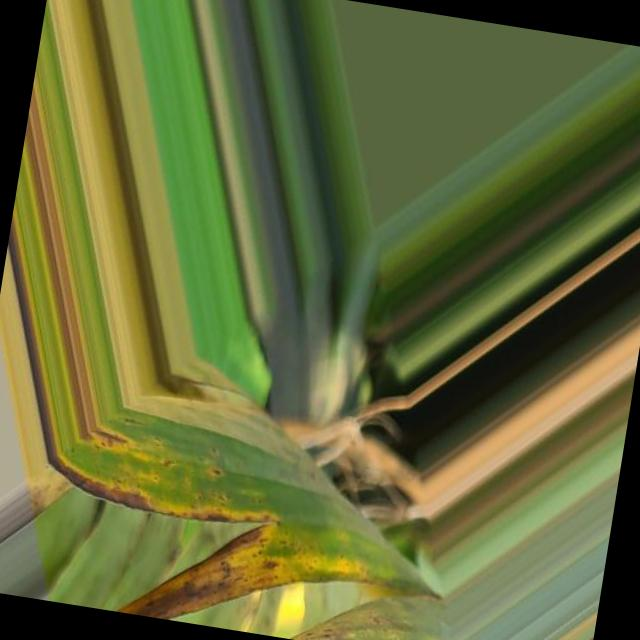Banana_Black_Sigatoka: (19, 408, 438, 640)
